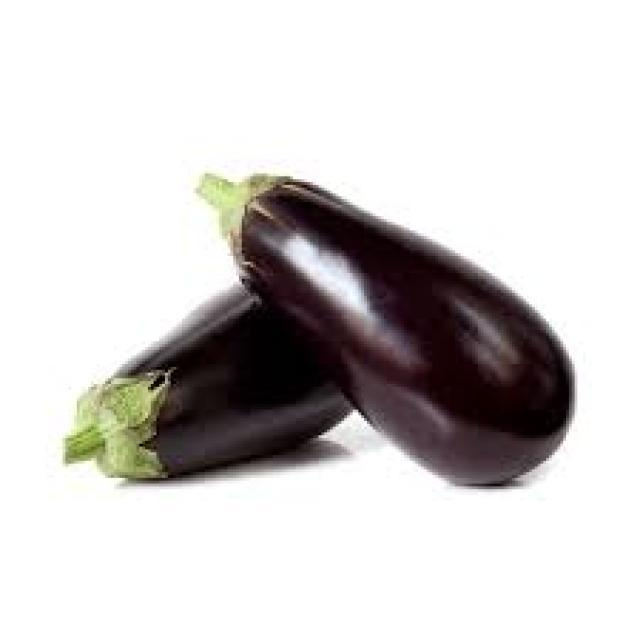eggplant: (223, 166, 570, 479), (81, 280, 363, 476)
